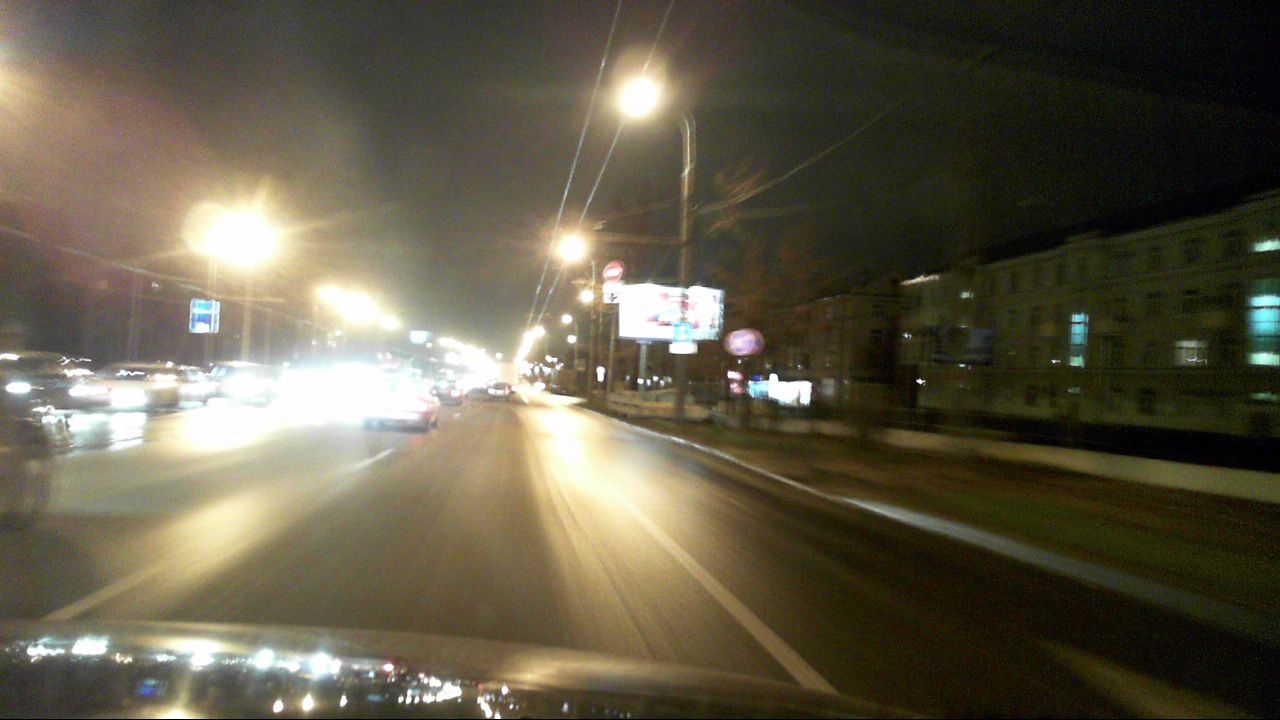No Parking: (727, 328, 756, 355)
